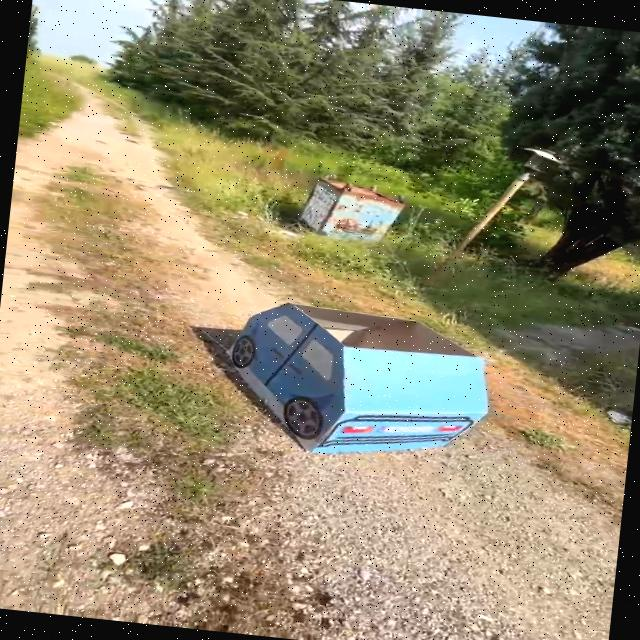blue_car: (192, 280, 534, 484)
